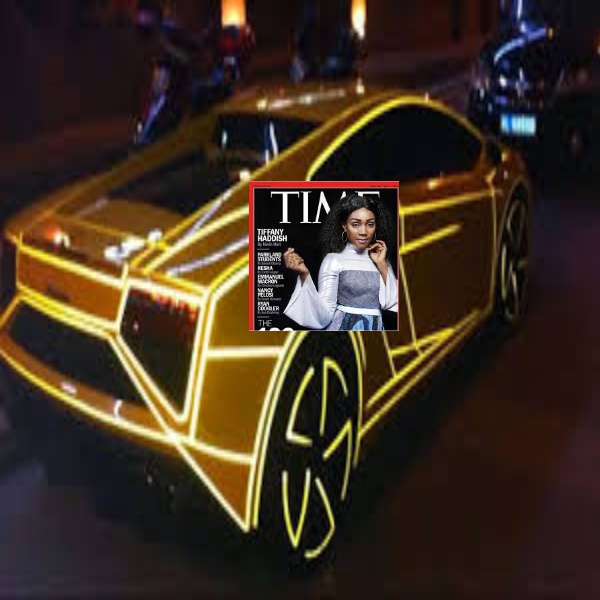time_cover: (250, 177, 405, 331)
